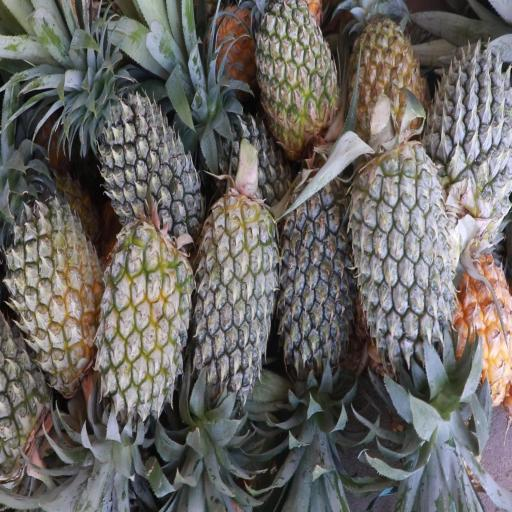------------------------------: (5, 192, 104, 386), (101, 228, 188, 423), (257, 0, 338, 156), (351, 7, 426, 158)
Pineapple - v8 v1: (451, 239, 512, 399)
